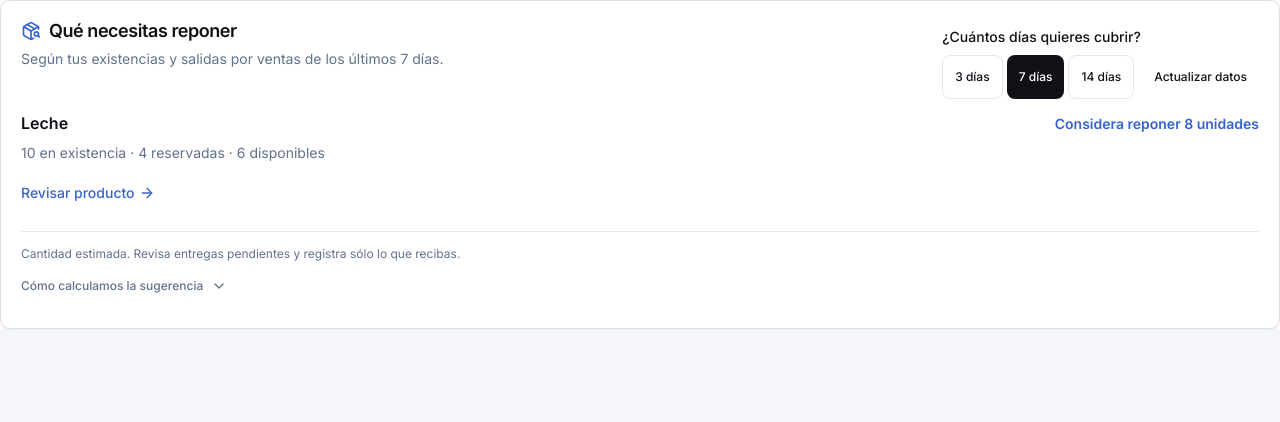
Test: RestockPlan › shows quantity and reservations first, with an accessible calculation disclosure
The image size is (1280, 422).
Check: the text "¿Cuántos días quieres cubrir?" is shown, box x1=942 y1=28 x2=1141 y2=45
Check: the text "Cantidad estimada. Revisa entregas pendientes y registra sólo lo que recibas." is shown, box x1=21 y1=246 x2=460 y2=261
Click the button "Cómo calculamos la sugerencia": (124, 286) x1=21 y1=264 x2=227 y2=308
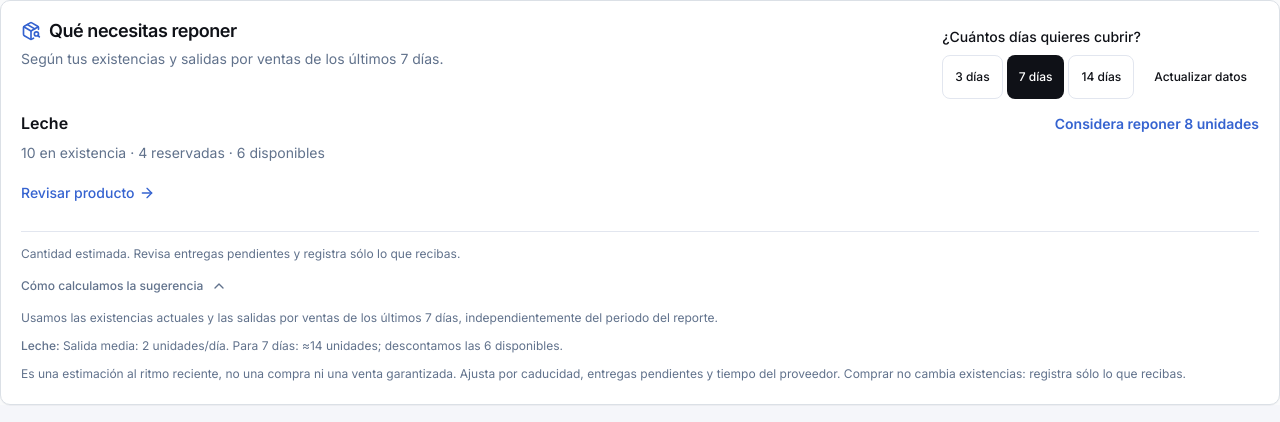
Check: the button "Cómo calculamos la sugerencia" is expanded, box x1=21 y1=264 x2=227 y2=308
Check: the text "Usamos las existencias actuales y las salidas por ventas de los últimos 7 días, independientemente del periodo del repor" is shown, box x1=21 y1=310 x2=718 y2=325
Check: the text "Es una estimación al ritmo reciente, no una compra ni una venta garantizada. Ajusta por caducidad, entregas pendientes y" is shown, box x1=21 y1=366 x2=1186 y2=381
